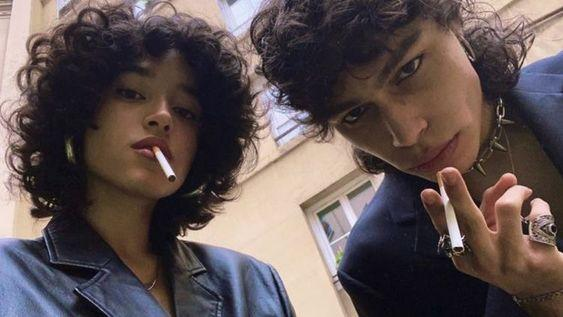cigarette: (436, 171, 465, 255), (152, 146, 176, 182)
